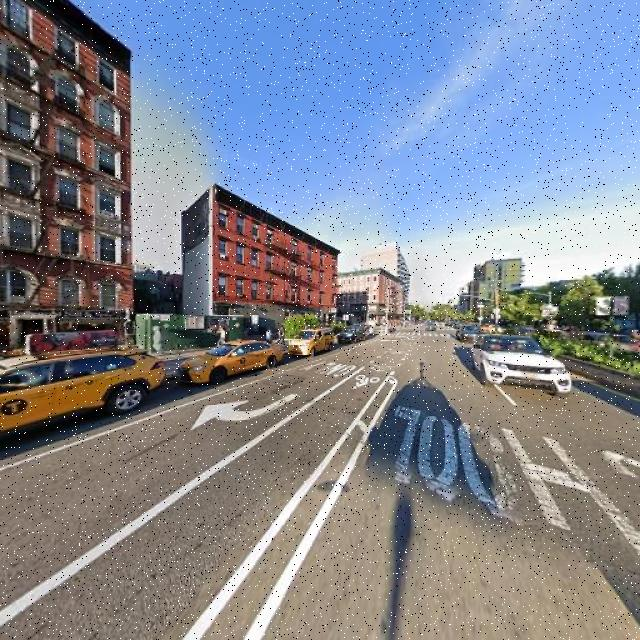Building: (1, 1, 129, 367), (214, 182, 337, 344)
